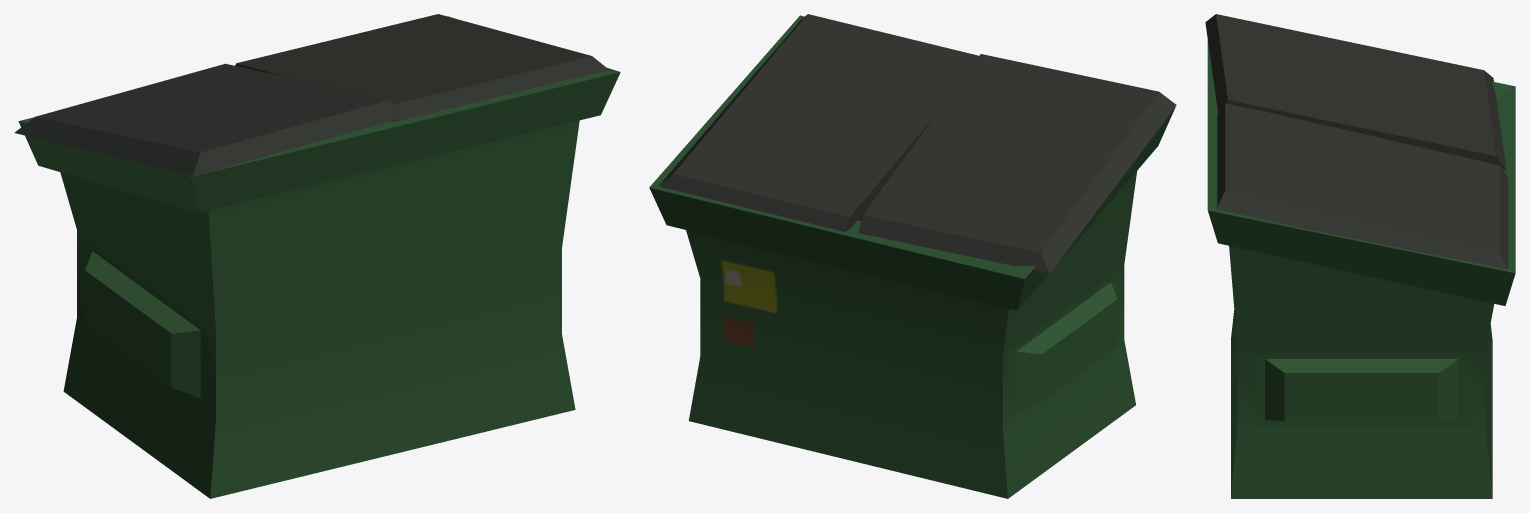
The model's file is Dumpster.fbx.
3 renders of one model, left to right at view 1: azimuth 30°, elevation 25°; view 2: azimuth 150°, elevation 25°; view 3: azimuth 270°, elevation 25°, orthographic. The views are drawn at different scales.
Parts seen in each view (by area): view 1: pCube66; view 2: pCube66; view 3: pCube66.
Part boxes in pixels (x1,y1,x2,y2): pCube66: (14, 14, 620, 498); pCube66: (649, 14, 1176, 498); pCube66: (1205, 14, 1515, 498).
Size of the model in its own units: 6.49 by 4.96 by 4.38.
